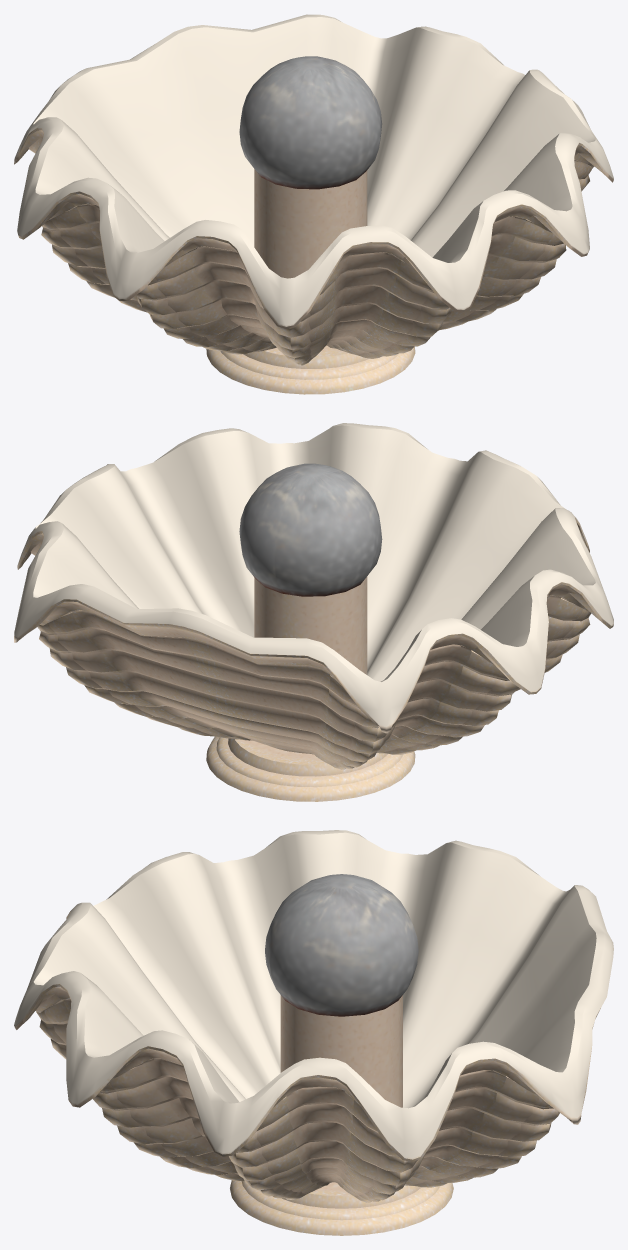
Rendered from FountainClam_LOD.fbx.
3 views of the same model, one above another, from view 1: azimuth 30°, elevation 25°; view 2: azimuth 150°, elevation 25°; view 3: azimuth 270°, elevation 25° (orthographic). The views are drawn at different scales.
Parts seen in each view (by area): view 1: FountainClam_LOD0; view 2: FountainClam_LOD0; view 3: FountainClam_LOD0.
Boxes of the visible parts, left/top/right/bottom form: FountainClam_LOD0: left=14, top=14, right=613, bottom=394; FountainClam_LOD0: left=14, top=423, right=613, bottom=801; FountainClam_LOD0: left=14, top=830, right=613, bottom=1235.
Size of what is drawn, in the model's own units: 244 by 129 by 228.
